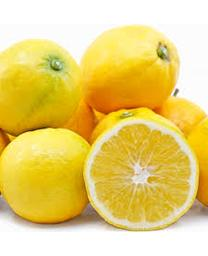lemon: (81, 116, 201, 233), (80, 24, 180, 114), (1, 127, 92, 223), (1, 39, 80, 137)
